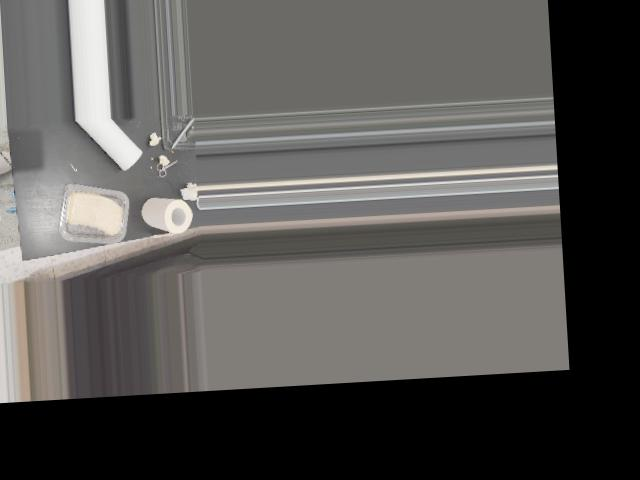cheese: (56, 182, 131, 241)
